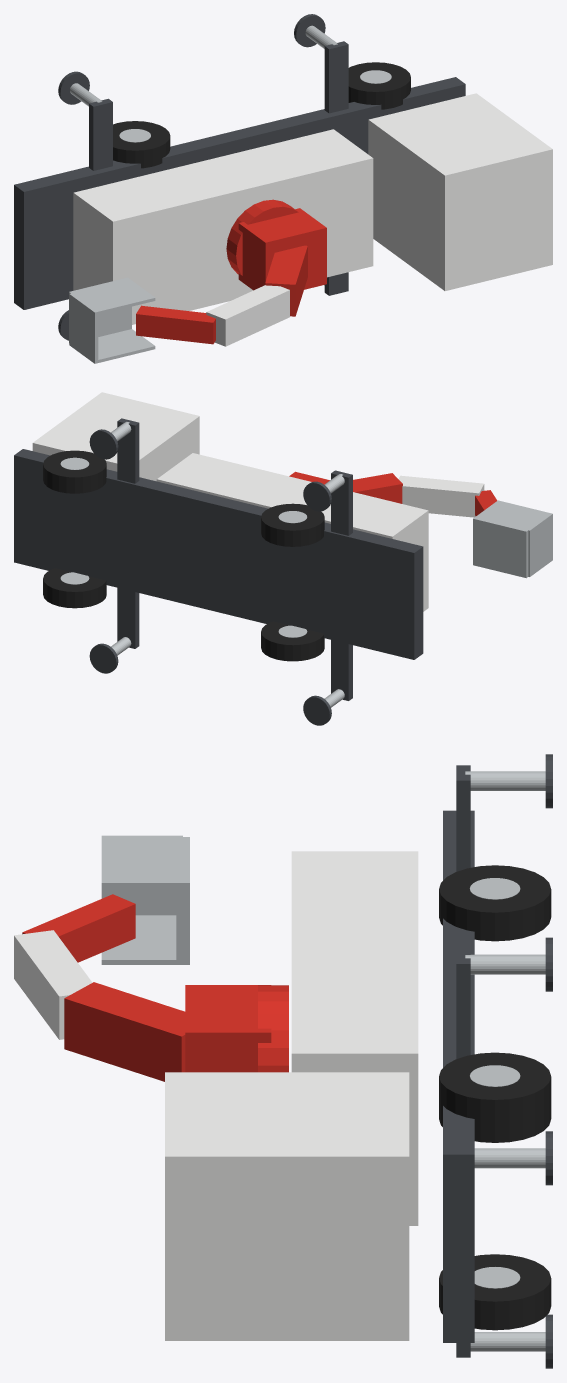
The model's file is ENMAX_EMGK23_HD.glb.
The picture shows the model from 3 angles, top to bottom: view 1: azimuth 30°, elevation 25°; view 2: azimuth 150°, elevation 25°; view 3: azimuth 270°, elevation 25°; orthographic projection. The views are drawn at different scales.
Parts seen in each view (by area): view 1: body, cab, chassis, ped, boom1, boom2, wheel31.23, cross2, wheel-1.91.23, boom0, cross-2.8, basket_back (+6 smaller); view 2: chassis, body, cab, basket_floor, boom1, cross2, cross-2.8, wheel31.23, wheel-1.91.23, wheel3-1.23, wheel-1.9-1.23, basket_back (+6 smaller); view 3: cab, body, chassis, boom0, ped, wheel31.23, wheel-1.91.23, boom1, wheel3-1.23, rail0.47, boom2, rail-0.47 (+13 smaller).
Part boxes in pixels (x1,y1,x2,y2): body: [73, 129, 373, 324]; cab: [368, 93, 552, 290]; chassis: [14, 77, 465, 309]; ped: [238, 208, 326, 290]; boom1: [206, 285, 289, 346]; boom2: [136, 305, 215, 344]; wheel31.23: [348, 62, 410, 109]; cross2: [324, 41, 348, 295]; wheel-1.91.23: [113, 121, 170, 168]; boom0: [265, 245, 307, 316]; cross-2.8: [89, 98, 112, 170]; basket_back: [69, 293, 98, 363]; chassis: [14, 449, 423, 659]; body: [156, 453, 428, 611]; cab: [32, 392, 199, 481]; basket_floor: [473, 517, 528, 578]; boom1: [398, 475, 484, 517]; cross2: [117, 418, 139, 648]; cross-2.8: [331, 470, 352, 700]; wheel31.23: [43, 450, 106, 493]; wheel-1.91.23: [261, 503, 324, 546]; wheel3-1.23: [43, 568, 106, 608]; wheel-1.9-1.23: [261, 621, 324, 661]; basket_back: [527, 513, 552, 576]; cab: [165, 1072, 409, 1340]; body: [291, 851, 418, 1225]; chassis: [443, 810, 474, 1342]; boom0: [64, 982, 185, 1081]; ped: [185, 985, 271, 1072]; wheel31.23: [439, 1052, 551, 1128]; wheel-1.91.23: [439, 865, 551, 941]; boom1: [14, 930, 92, 1039]; wheel3-1.23: [439, 1254, 551, 1330]; rail0.47: [101, 837, 182, 887]; boom2: [22, 894, 135, 962]; rail-0.47: [101, 915, 182, 964].
Bounding box in the file's own units: 9.74 × 5.2 × 5.96.
